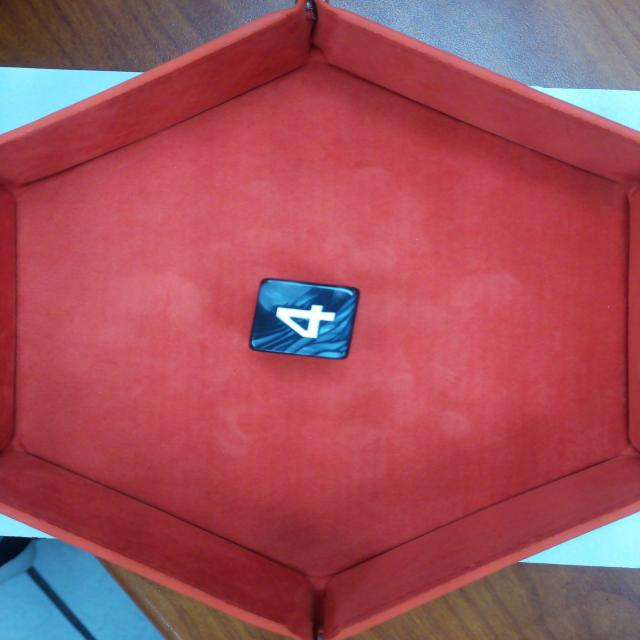dice: (250, 279, 359, 360)
